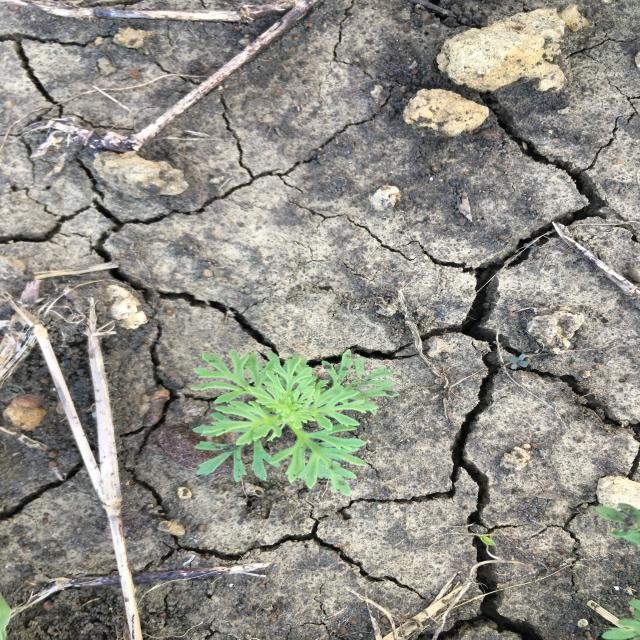Ragweed: (188, 346, 401, 500)
